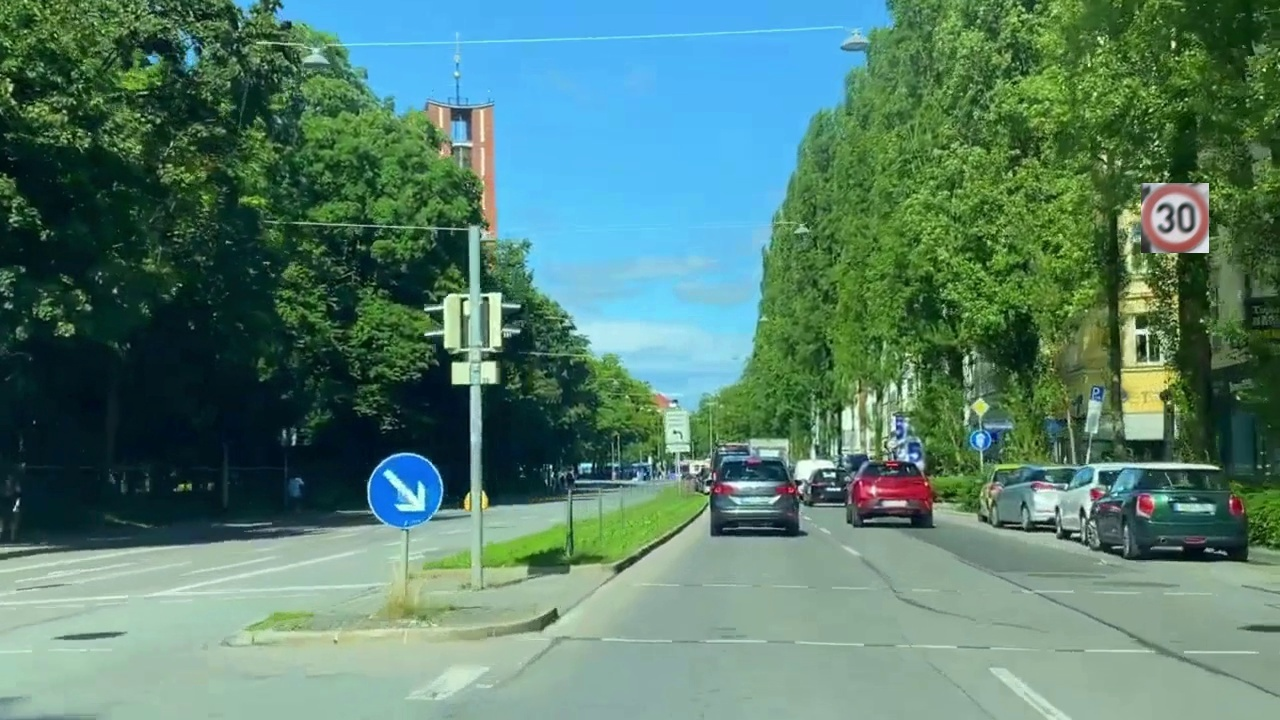Speed 30: (1141, 183, 1209, 253)
